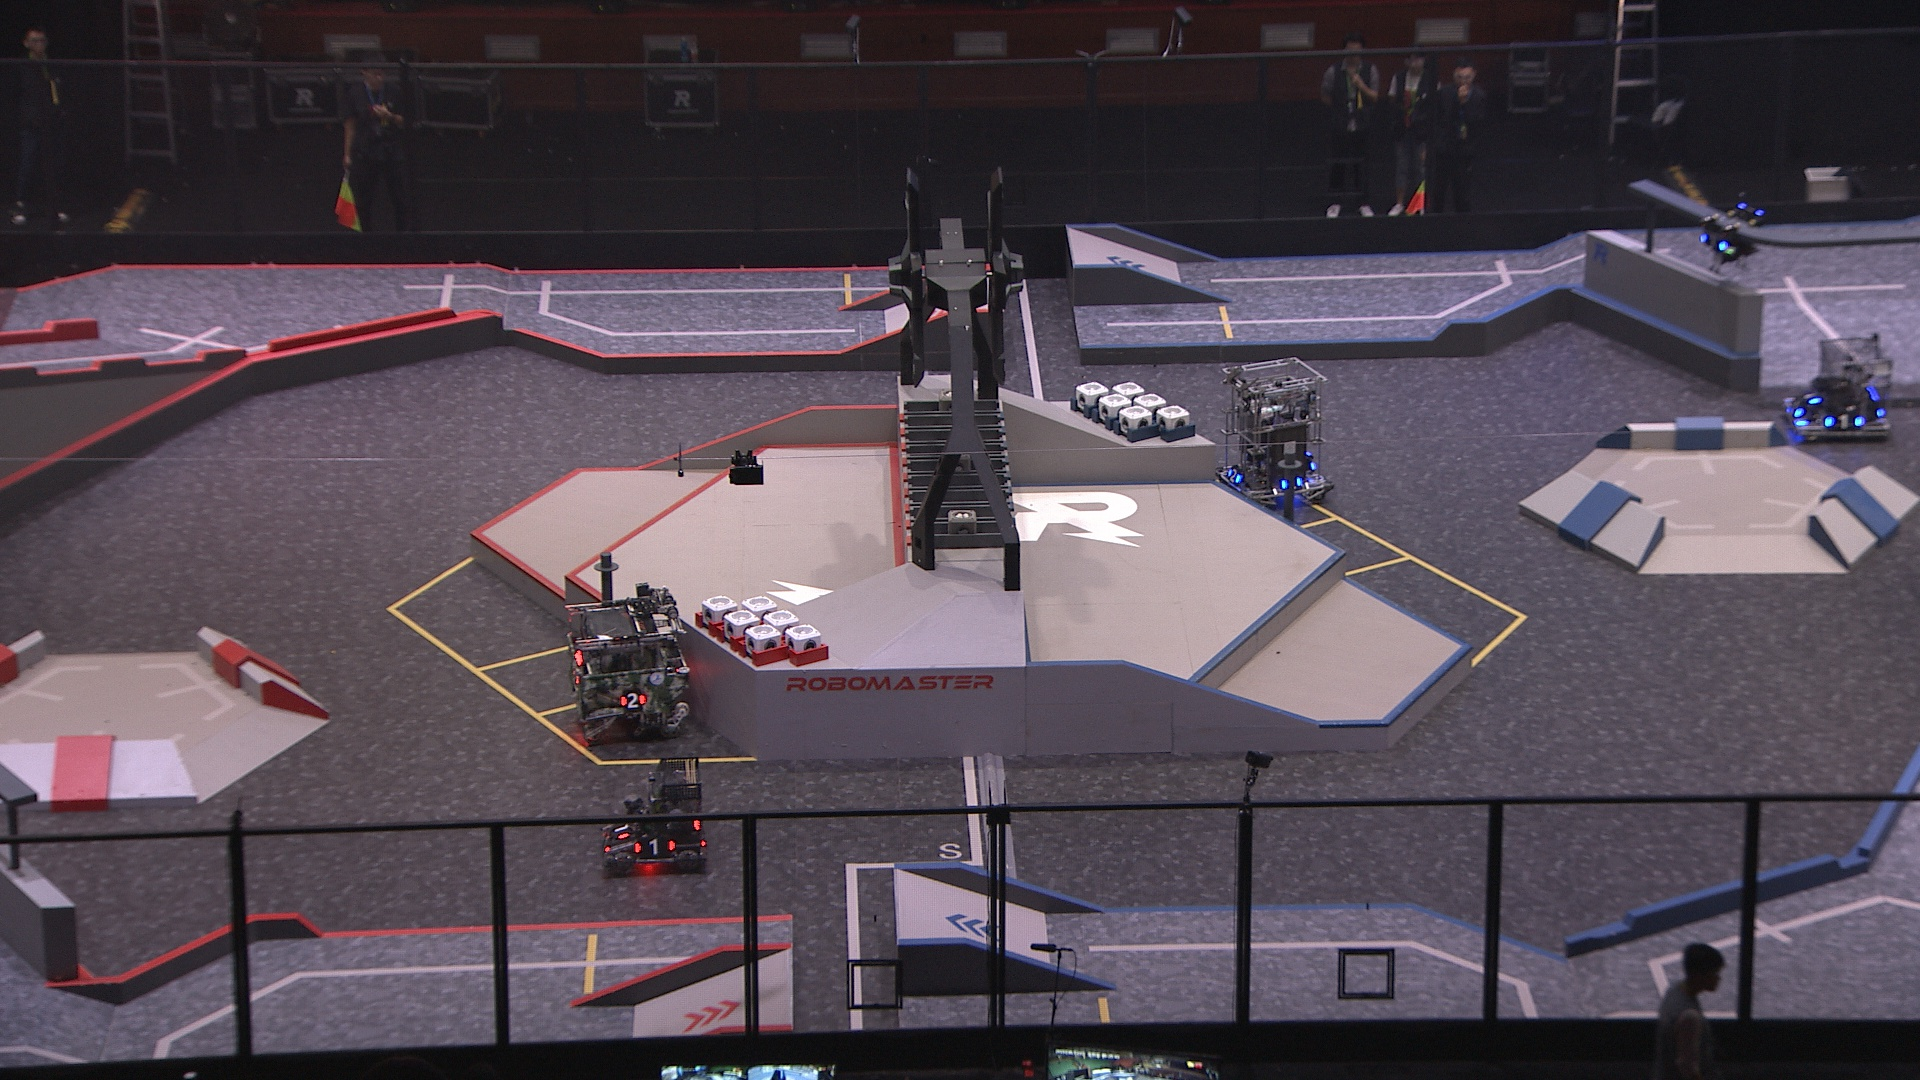armor: (632, 837, 675, 858), (1697, 229, 1731, 252), (1822, 411, 1865, 429), (618, 688, 647, 709), (608, 820, 636, 840), (1225, 462, 1244, 487), (1801, 386, 1821, 406), (1787, 400, 1807, 418)
car: (560, 583, 694, 742), (1207, 351, 1338, 505), (593, 756, 713, 880), (1780, 328, 1898, 444)
watcher: (1692, 189, 1768, 276)
